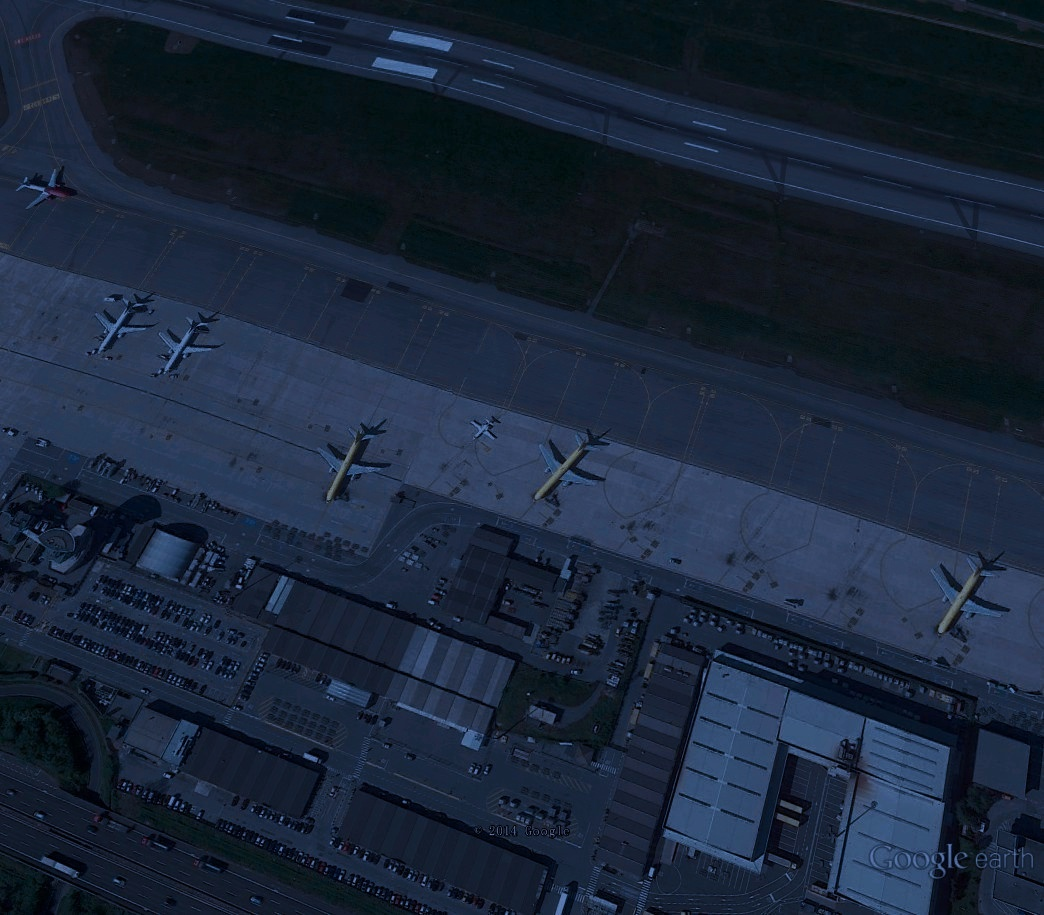aircraft: (924, 547, 1012, 640), (313, 420, 393, 504), (531, 426, 609, 505), (154, 309, 223, 379), (88, 295, 157, 357), (12, 163, 75, 214), (468, 412, 504, 445)
